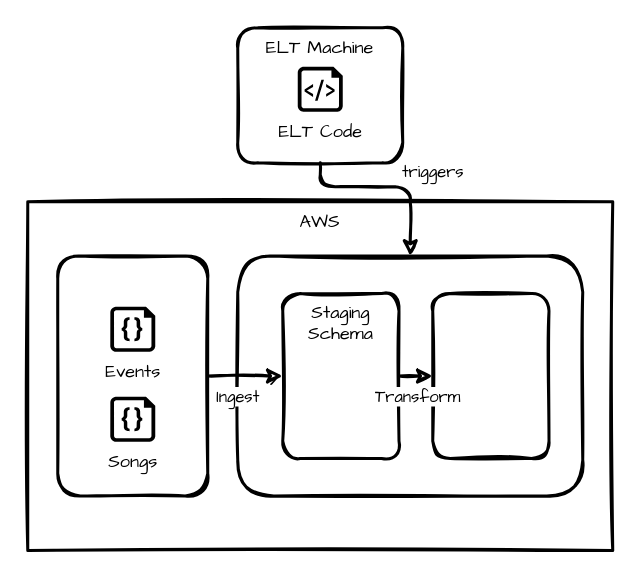
Image size: 639x578. Some labels were removed from this diagram. The box of each missing label's shape, as (x1, y1, x2, y2) in pixels:
Analytics Schema: (430, 291, 550, 459)
Redshift: (236, 254, 584, 497)
S3: (56, 254, 208, 497)
